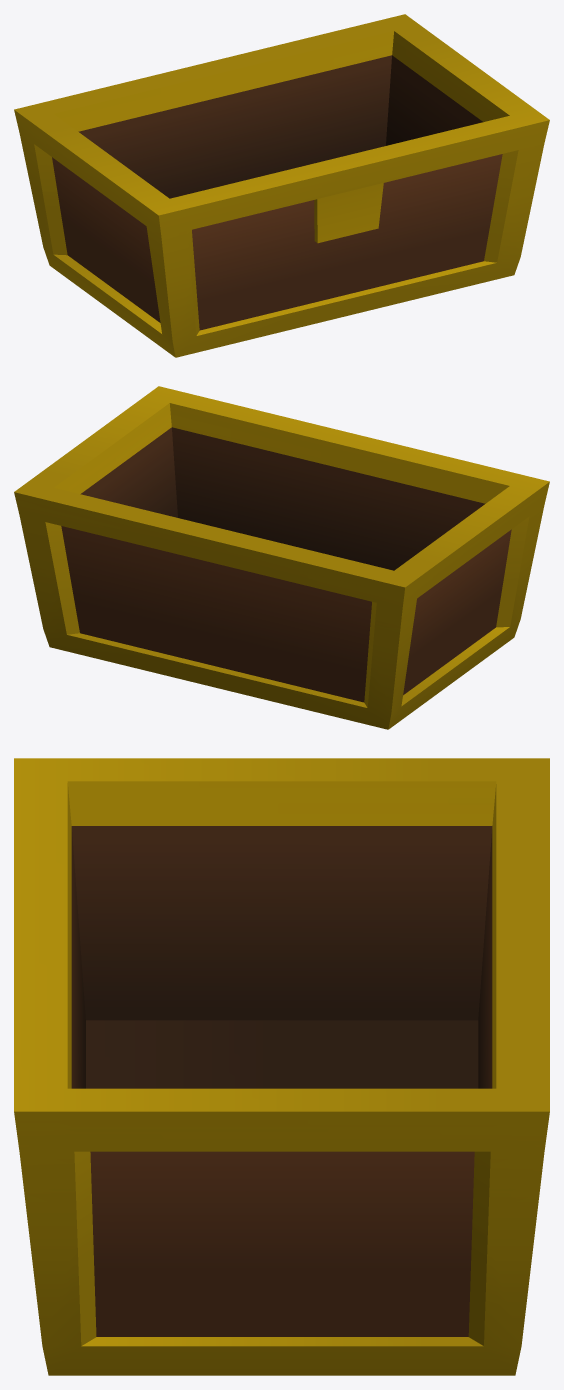
Rendered from PROP_033_Chest.fbx.
3 renders of one model, top to bottom at view 1: azimuth 30°, elevation 25°; view 2: azimuth 150°, elevation 25°; view 3: azimuth 270°, elevation 25°, orthographic. The views are drawn at different scales.
Visible parts, largest first — view 1: PROP_033_Chest; view 2: PROP_033_Chest; view 3: PROP_033_Chest.
Boxes of the visible parts, <box> form: PROP_033_Chest: <box>14,14,549,357</box>; PROP_033_Chest: <box>14,386,549,729</box>; PROP_033_Chest: <box>14,758,549,1375</box>.
Size of the model in its own units: 31.09 by 11.81 by 19.93.
